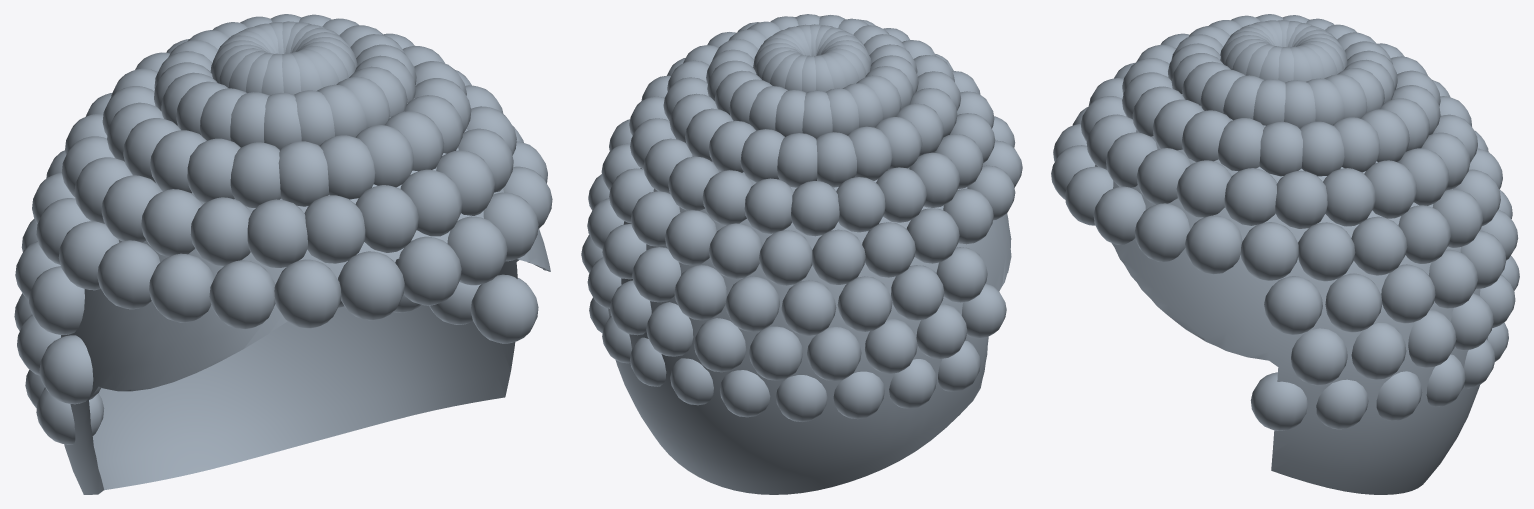
3 views of the same model, side by side, from view 1: azimuth 30°, elevation 25°; view 2: azimuth 150°, elevation 25°; view 3: azimuth 270°, elevation 25° (orthographic). The views are drawn at different scales.
Parts seen in each view (by area): view 1: CrownHair_male_ref15, Hair_Curl_4_5, Hair_Curl_4_6, Hair_Curl_7_18, Hair_Curl_4_4, Hair_Curl_4_7, Hair_Curl_3_6, Hair_Curl_4_3, Hair_Curl_3_5, Hair_Curl_3_7, Hair_Curl_4_8, Hair_Curl_3_4 (+56 smaller); view 2: CrownHair_male_ref15, Hair_Curl_5_12, Hair_Curl_4_12, Hair_Curl_4_13, Hair_Curl_5_13, Hair_Curl_5_11, Hair_Curl_4_14, Hair_Curl_4_11, Hair_Curl_5_14, Hair_Curl_5_10, Hair_Curl_6_12, Hair_Curl_6_11 (+71 smaller); view 3: CrownHair_male_ref15, Hair_Curl_4_20, Hair_Curl_5_19, Hair_Curl_4_19, Hair_Curl_4_21, Hair_Curl_5_18, Hair_Curl_4_18, Hair_Curl_6_18, Hair_Curl_3_20, Hair_Curl_4_0, Hair_Curl_3_21, Hair_Curl_5_17 (+60 smaller).
Boxes of the visible parts, x1,y1,x2,y2 form: CrownHair_male_ref15: [61, 85, 550, 494]; Hair_Curl_4_5: [274, 259, 341, 328]; Hair_Curl_4_6: [209, 260, 275, 329]; Hair_Curl_7_18: [470, 274, 538, 343]; Hair_Curl_4_4: [338, 251, 404, 320]; Hair_Curl_4_7: [149, 253, 214, 322]; Hair_Curl_3_6: [247, 199, 307, 267]; Hair_Curl_4_3: [395, 236, 461, 305]; Hair_Curl_3_5: [304, 195, 365, 263]; Hair_Curl_3_7: [190, 197, 251, 265]; Hair_Curl_4_8: [97, 240, 160, 309]; Hair_Curl_3_4: [355, 185, 418, 252]; CrownHair_male_ref15: [608, 155, 1011, 494]; Hair_Curl_5_12: [781, 280, 836, 335]; Hair_Curl_4_12: [812, 229, 865, 284]; Hair_Curl_4_13: [759, 230, 812, 285]; Hair_Curl_5_13: [725, 276, 779, 331]; Hair_Curl_5_11: [837, 276, 892, 331]; Hair_Curl_4_14: [709, 223, 762, 278]; Hair_Curl_4_11: [862, 222, 915, 277]; Hair_Curl_5_14: [674, 265, 726, 320]; Hair_Curl_5_10: [891, 265, 944, 320]; Hair_Curl_6_12: [749, 326, 802, 380]; Hair_Curl_6_11: [807, 327, 861, 381]; CrownHair_male_ref15: [1095, 94, 1487, 494]; Hair_Curl_4_20: [1240, 222, 1298, 280]; Hair_Curl_5_19: [1264, 276, 1322, 334]; Hair_Curl_4_19: [1298, 222, 1355, 281]; Hair_Curl_4_21: [1185, 215, 1242, 274]; Hair_Curl_5_18: [1325, 273, 1382, 332]; Hair_Curl_4_18: [1351, 216, 1407, 275]; Hair_Curl_6_18: [1291, 328, 1347, 385]; Hair_Curl_3_20: [1275, 170, 1327, 228]; Hair_Curl_4_0: [1134, 203, 1190, 261]; Hair_Curl_3_21: [1224, 168, 1277, 225]; Hair_Curl_5_17: [1381, 264, 1435, 323].
Bounding box in the file's own units: 0.788 × 0.7686 × 0.7675.
